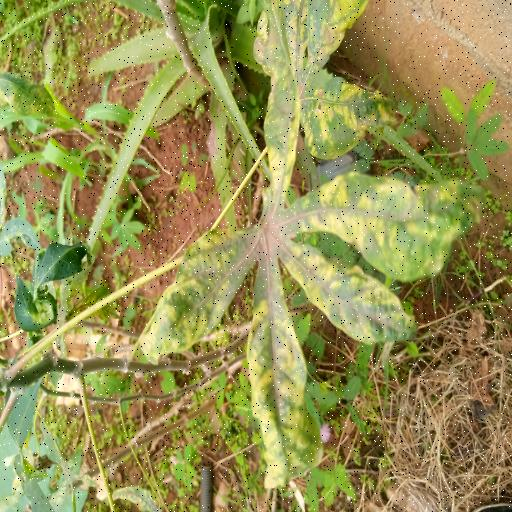Cassava_Mosaic: (145, 9, 460, 484)
